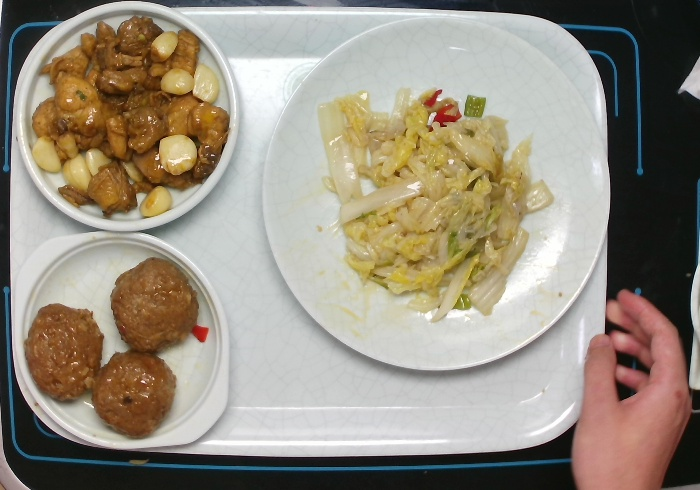JYsf-Da_Yuan_Pan: (256, 10, 613, 373)
JYsf-Shuang_Er_Pan: (11, 227, 233, 453)
JYsf-Xiao_Yuan_Pan: (12, 1, 243, 235)
